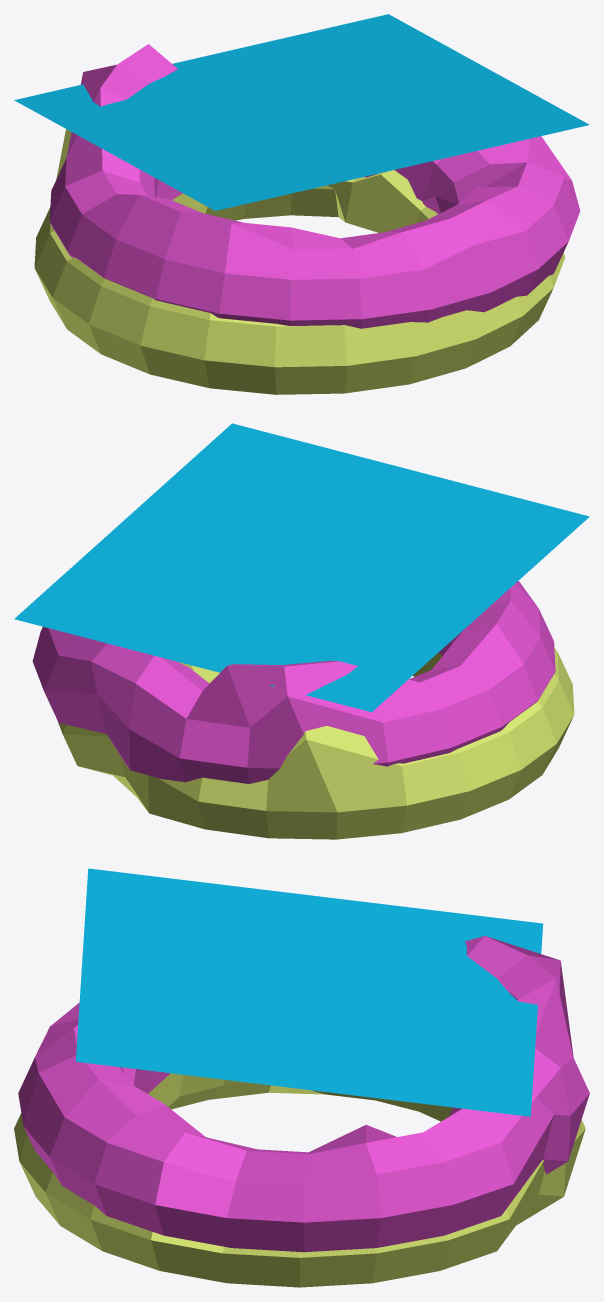
3 renders of one model, top to bottom at view 1: azimuth 30°, elevation 25°; view 2: azimuth 150°, elevation 25°; view 3: azimuth 270°, elevation 25°, orthographic. The views are drawn at different scales.
Visible parts, largest first — view 1: Torus.001, Plane, Torus; view 2: Plane, Torus.001, Torus; view 3: Plane, Torus.001, Torus.
Boxes of the visible parts, left/top/right/bottom form: Torus.001: left=49, top=44, right=580, bottom=328; Plane: left=14, top=14, right=589, bottom=210; Torus: left=34, top=129, right=565, bottom=394; Plane: left=14, top=423, right=589, bottom=712; Torus.001: left=32, top=581, right=555, bottom=783; Torus: left=57, top=647, right=574, bottom=839; Plane: left=75, top=868, right=543, bottom=1116; Torus.001: left=18, top=936, right=589, bottom=1252; Torus: left=14, top=1073, right=585, bottom=1287.
Size of the model in its own units: 2.58 by 1.12 by 2.51.
